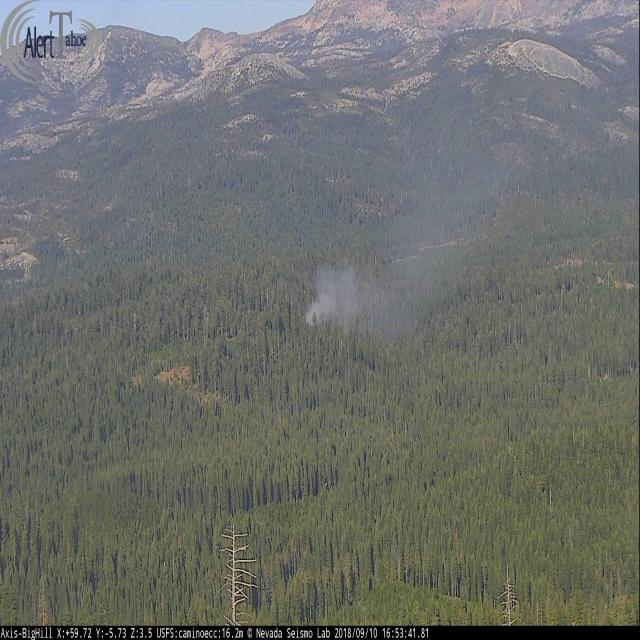smoke: (302, 91, 507, 327)
